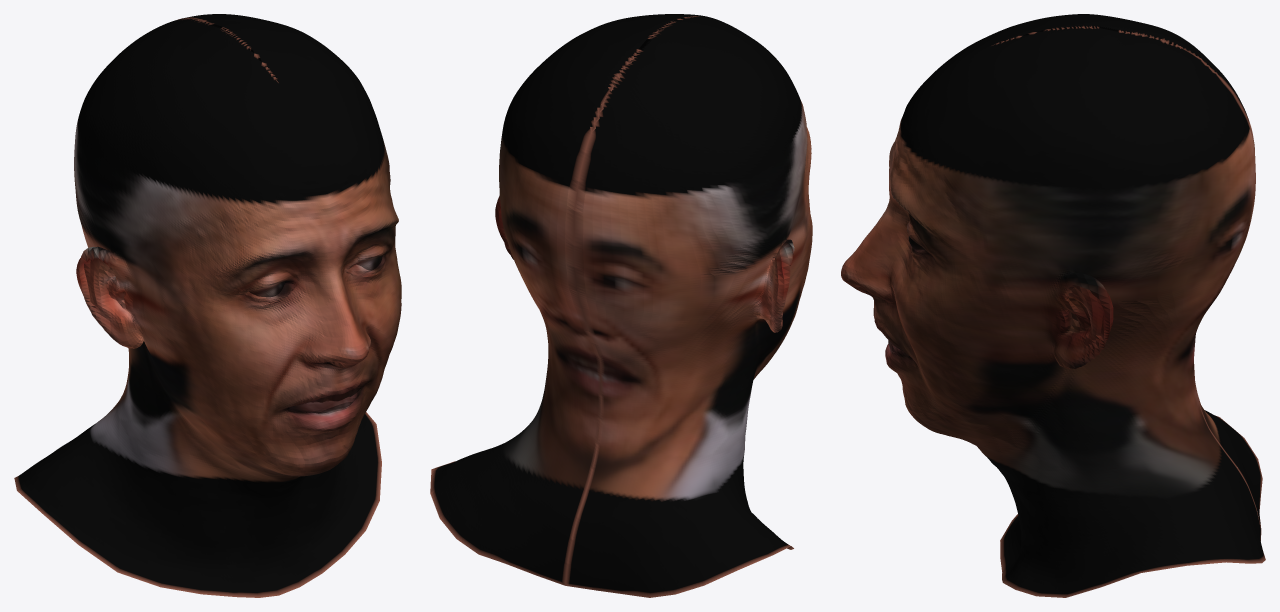
Rendered from mesh_coarse_detail.obj.
3 renders of one model, left to right at view 1: azimuth 30°, elevation 25°; view 2: azimuth 150°, elevation 25°; view 3: azimuth 270°, elevation 25°, orthographic. The views are drawn at different scales.
Size of the model in its own units: 0.2136 by 0.3198 by 0.2275.
